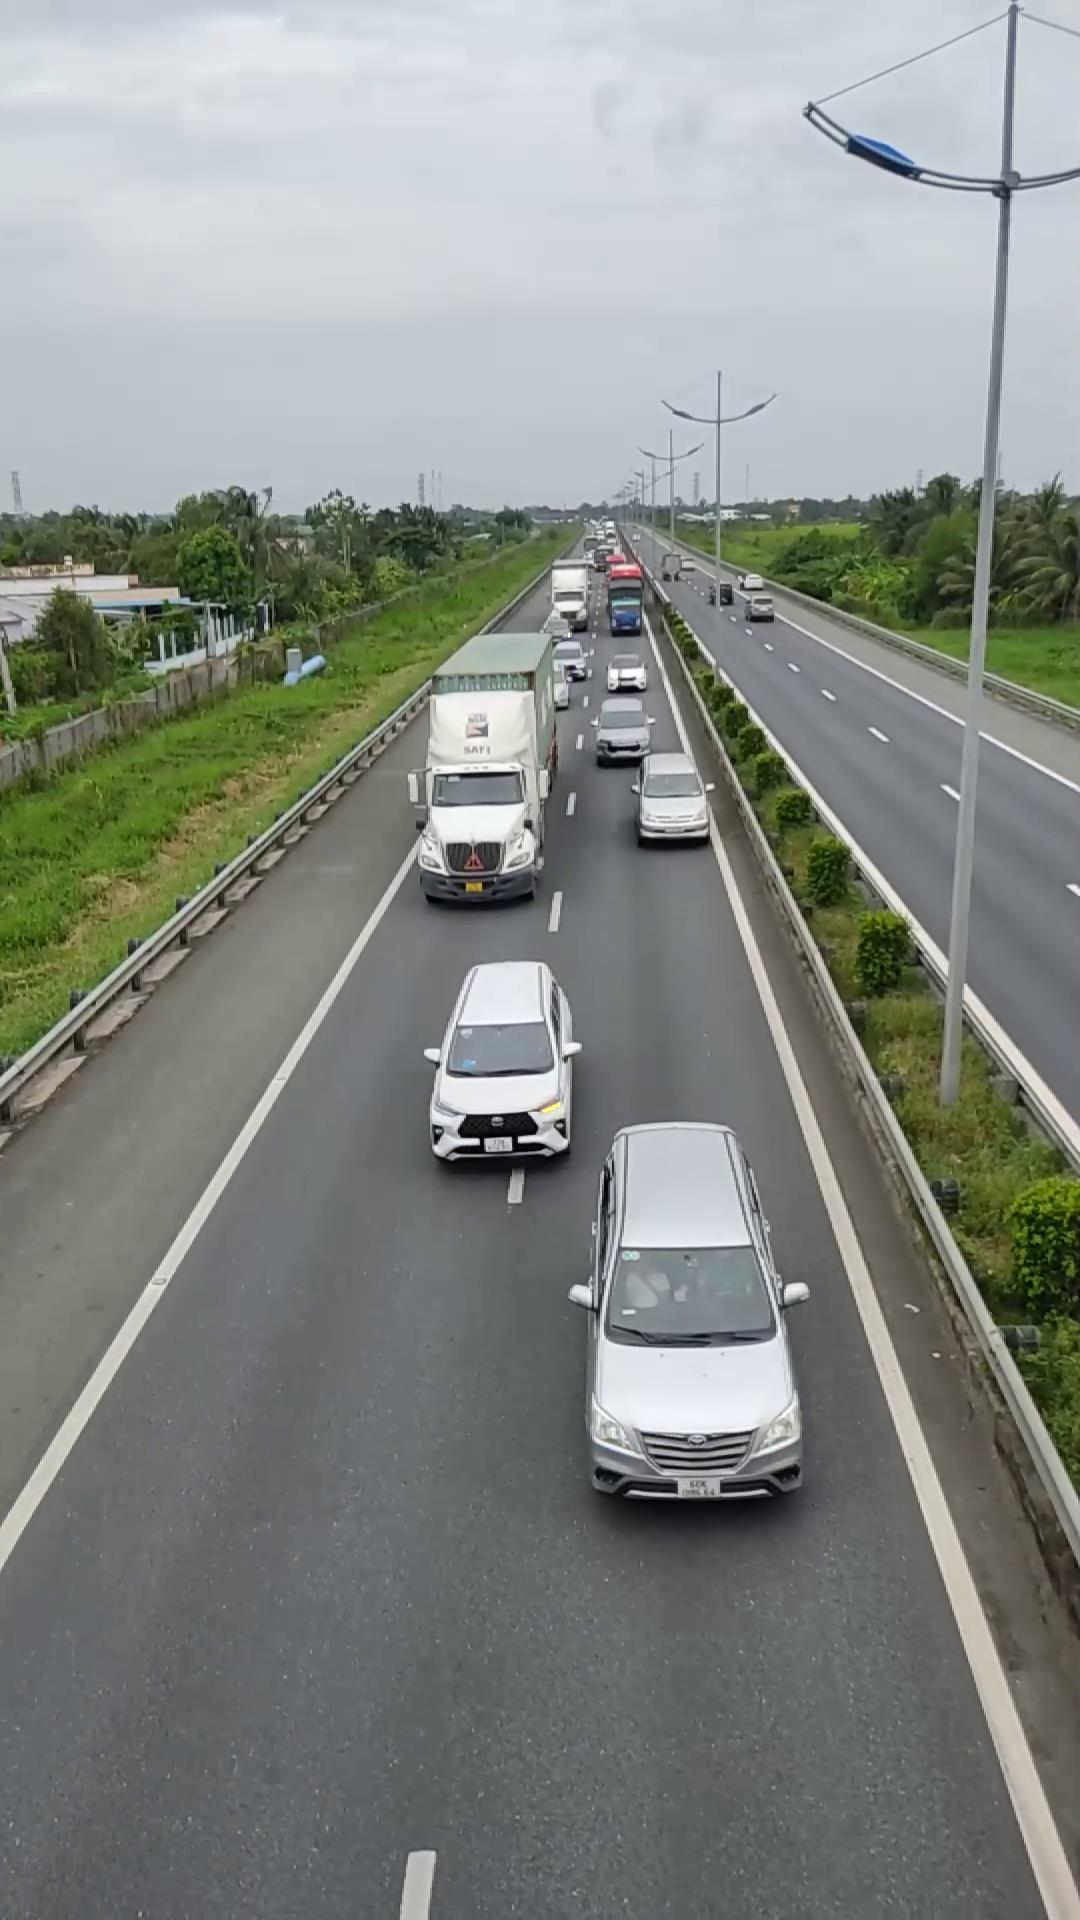car: (574, 1117, 808, 1503), (421, 957, 582, 1168), (630, 750, 713, 845)
container: (414, 628, 556, 903)
